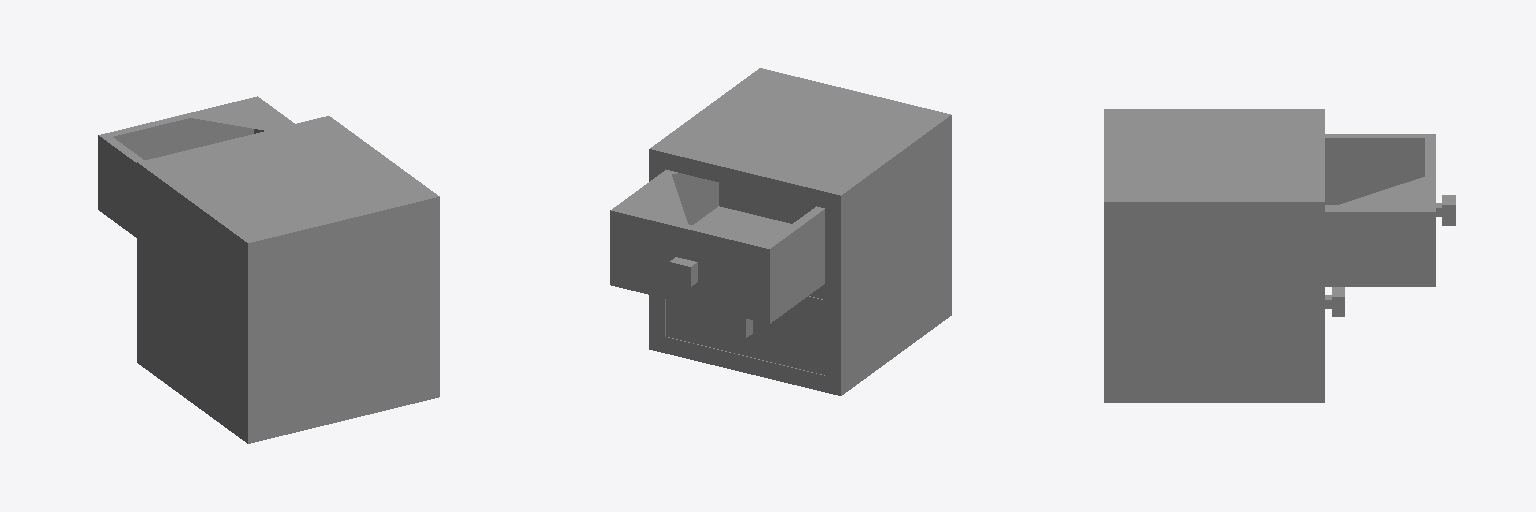
The model's file is kitchen_wooden_cabinet_2.obj.
The picture shows the model from 3 angles: view 1: azimuth 30°, elevation 25°; view 2: azimuth 150°, elevation 25°; view 3: azimuth 270°, elevation 25°; orthographic projection.
Visible parts, largest first — view 1: Cube.000, Cube.001; view 2: Cube.000, Cube.001, Cube.002; view 3: Cube.000, Cube.001.
Boxes of the visible parts, box(x1,y1,x2,y2) form: Cube.000: box(137, 116, 439, 443); Cube.001: box(98, 96, 294, 237); Cube.000: box(649, 68, 951, 395); Cube.001: box(610, 170, 824, 323); Cube.002: box(666, 296, 824, 374); Cube.000: box(1104, 109, 1324, 402); Cube.001: box(1325, 134, 1455, 286).
Size of the model in its own units: 2 by 2 by 3.18.